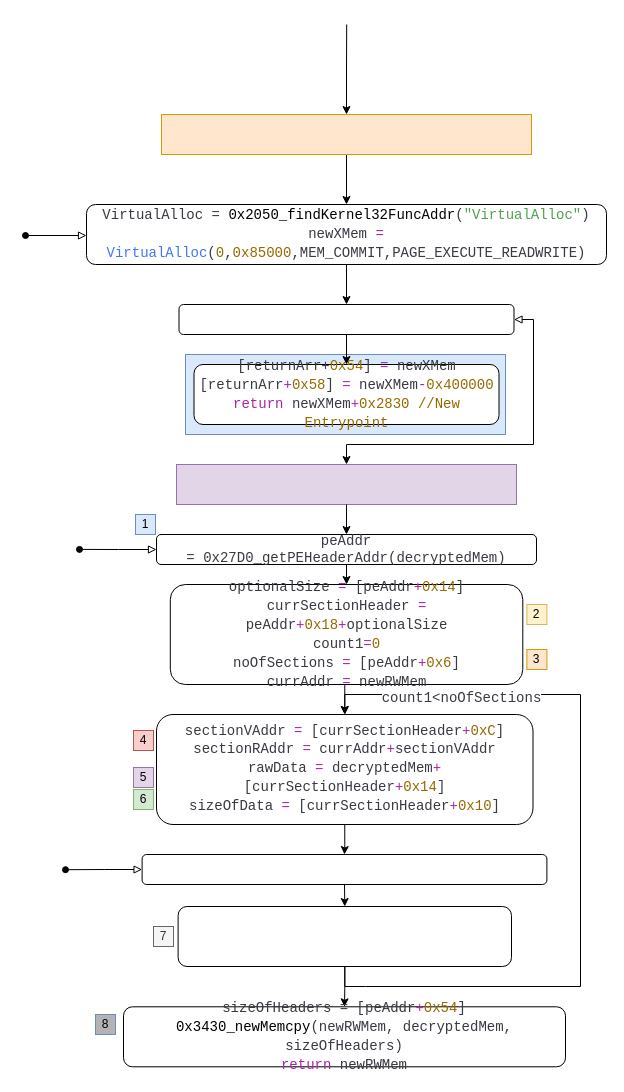
The diagram is 624 pixels wide and 1092 high, and some of its shapes have lost their labels. Each missing label, with the centre of its shape:
"0x1d70_DecryptedToRWX(returnArr, decryptedMem)" belongs at point (346, 134).
"0x1e30_copyDecrypted(newRWMem,decryptedMem)" belongs at point (346, 484).
"0x1e30_copyDecrypted(newXMem, decryptedMem)" belongs at point (346, 319).
"0x3430_newMemcpy(sectionRAddr, rawData, sizeOfData)" belongs at point (344, 869).
"count1+= 1 currSectionHeader = currSectionHeader + 0x28" belongs at point (344, 936).
